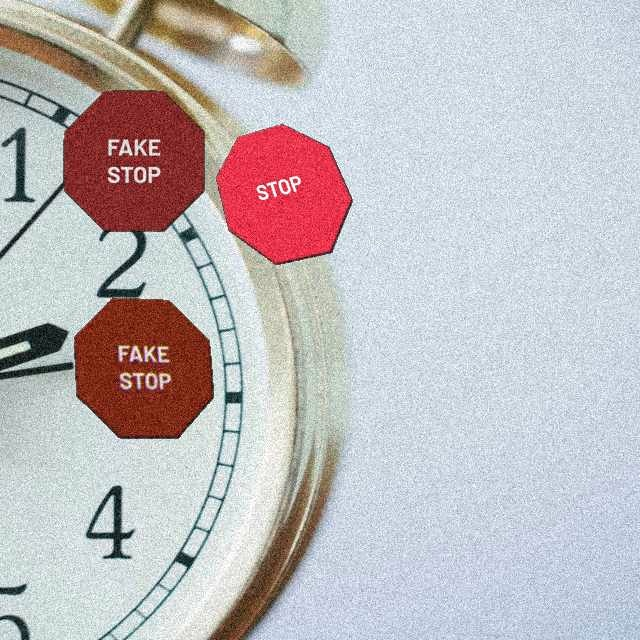FAKE_STOP: (63, 90, 205, 232), (73, 297, 214, 439)
STOP: (215, 123, 353, 265)
